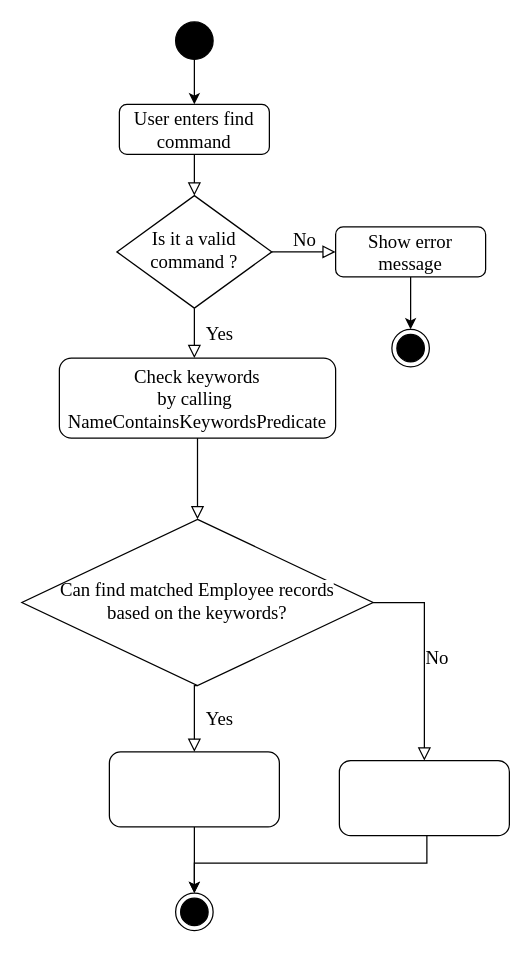
Image size: 531x953. Some labels were removed from this diagram. Each missing label, with the centre of its shape:
"Show user that the matched Employee records" belongs at point 193,789.
"Show user that there is no matched Employee records" belongs at point 423,797.
